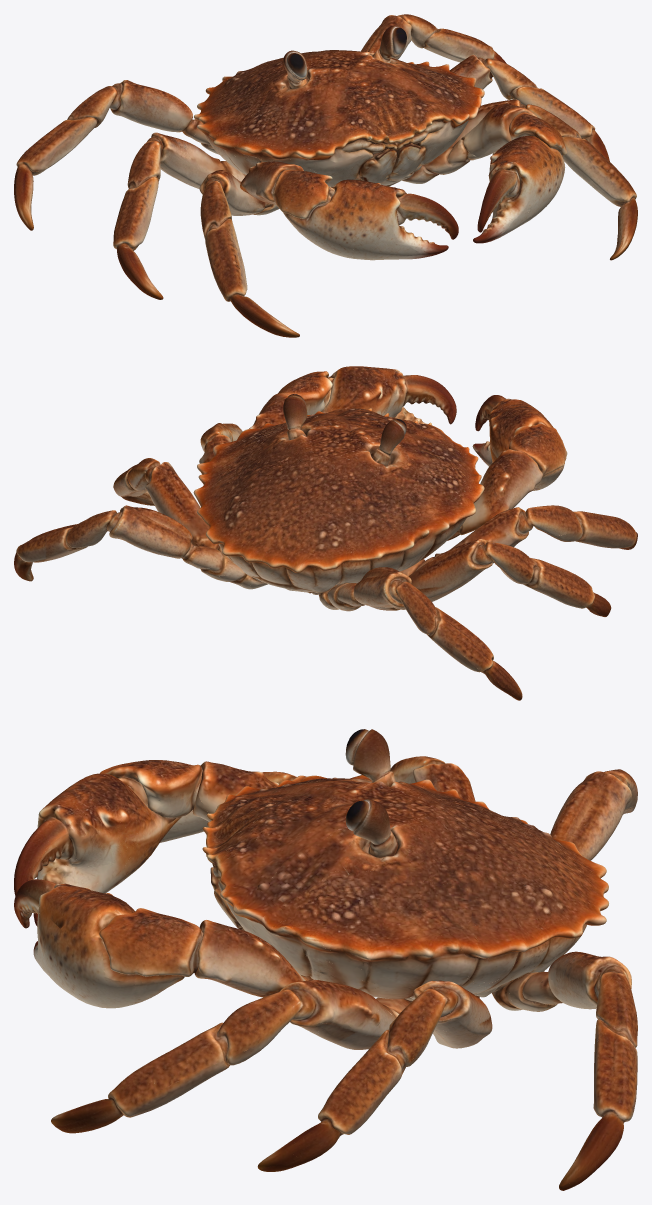
File: crab.glb
The picture shows the model from 3 angles, top to bottom: view 1: azimuth 30°, elevation 25°; view 2: azimuth 150°, elevation 25°; view 3: azimuth 270°, elevation 25°; orthographic projection. The views are drawn at different scales.
Visible parts, largest first — view 1: Mesh_0; view 2: Mesh_0; view 3: Mesh_0.
Boxes of the visible parts, bbox=[...] form: Mesh_0: bbox=[14, 14, 637, 337]; Mesh_0: bbox=[14, 366, 637, 700]; Mesh_0: bbox=[14, 729, 637, 1190].
Size of the model in its own units: 0.144 by 0.05 by 0.11.
Materials: 1 (1 with a texture image).
